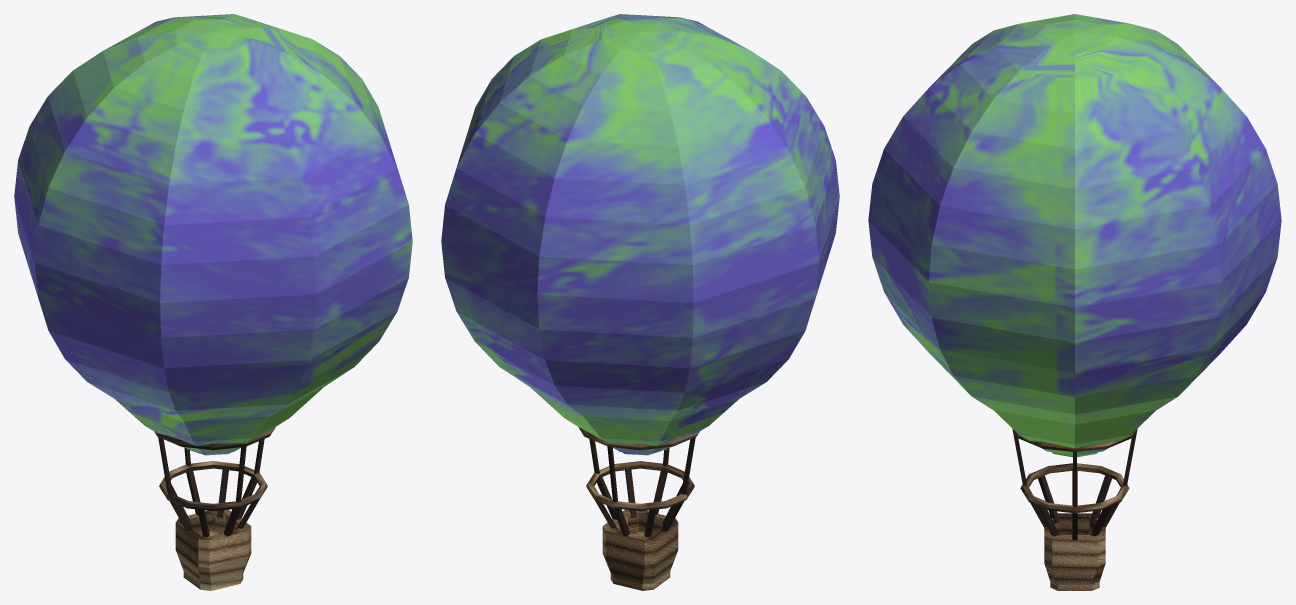
The model's file is hot-air-balloon_4.fbx.
The picture shows the model from 3 angles, left to right: view 1: azimuth 30°, elevation 25°; view 2: azimuth 150°, elevation 25°; view 3: azimuth 270°, elevation 25°; orthographic projection.
Parts seen in each view (by area): view 1: Torus.002; view 2: Torus.002; view 3: Torus.002.
Boxes of the visible parts, x1,y1,x2,y2 form: Torus.002: (14,14,412,590); Torus.002: (441,14,839,590); Torus.002: (868,14,1281,590).
Bounding box in the file's own units: 200 × 292 × 200.
